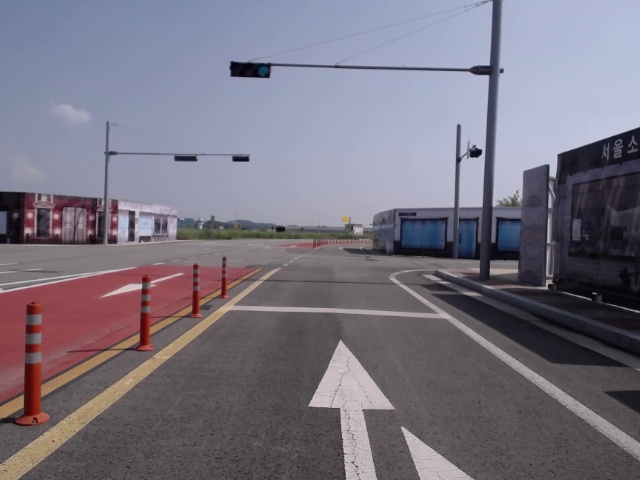green_3: (230, 61, 271, 78)
